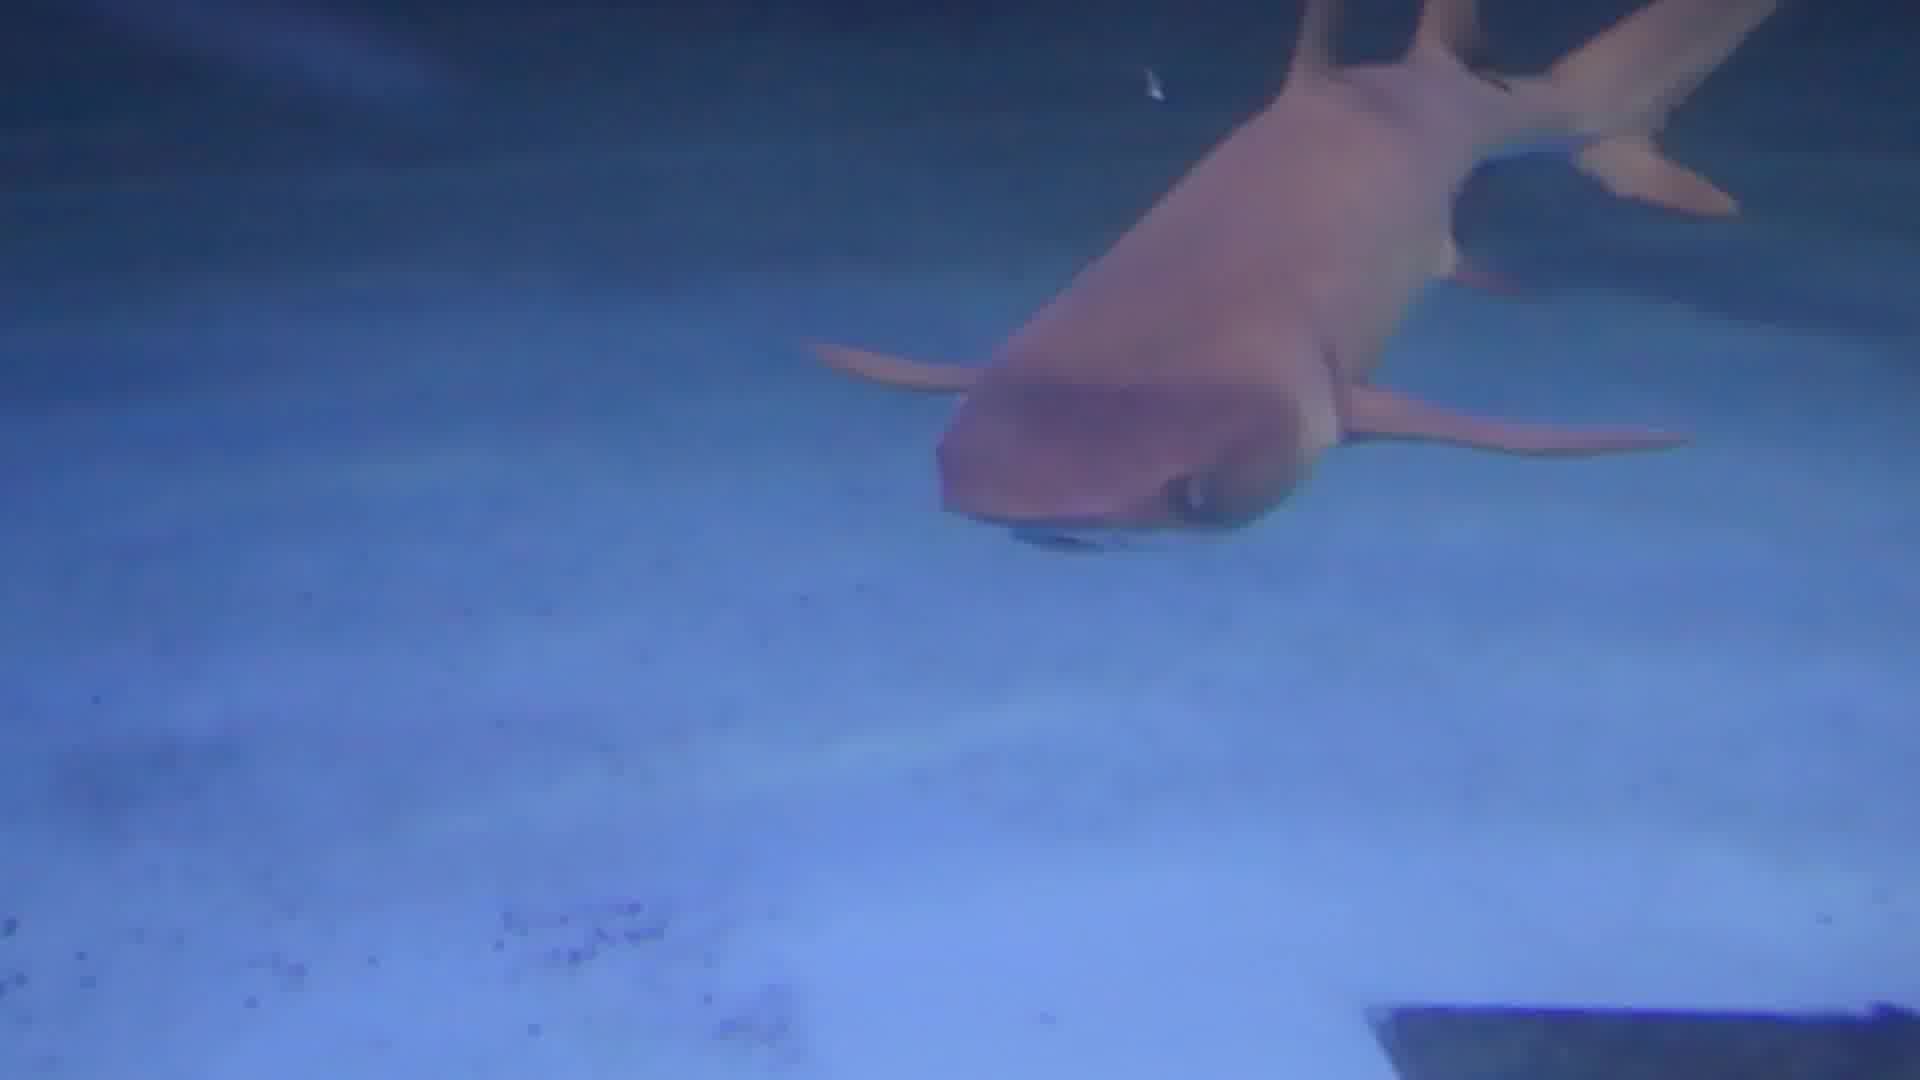Triaenodon obesus: (771, 1, 1788, 549)
